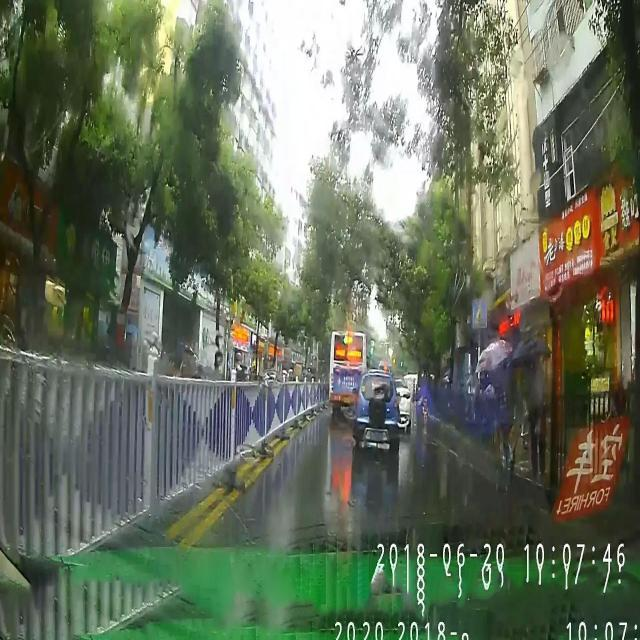car: (354, 370, 399, 450), (392, 376, 412, 424)
